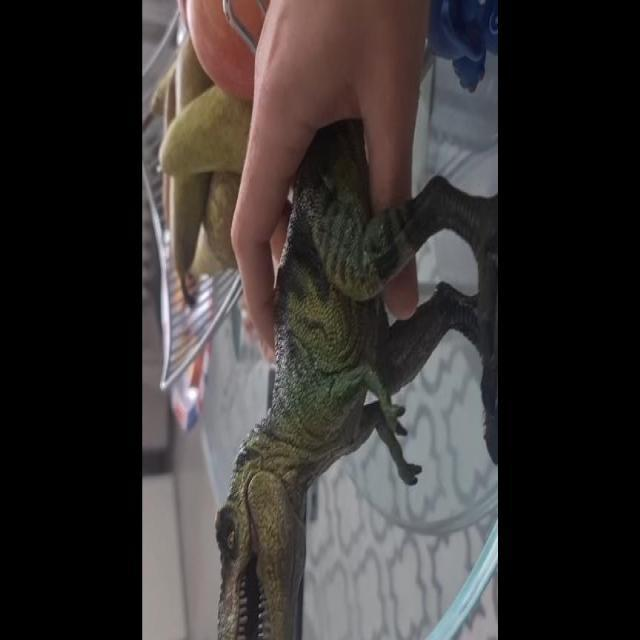hard-toy: (219, 121, 497, 640)
